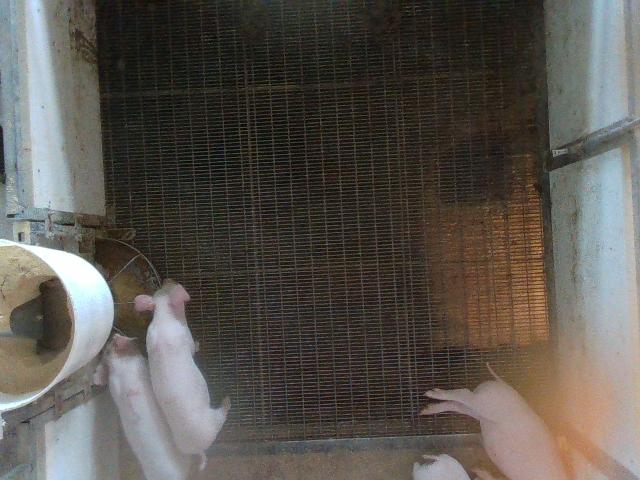pig-5: (94, 334, 191, 478)
